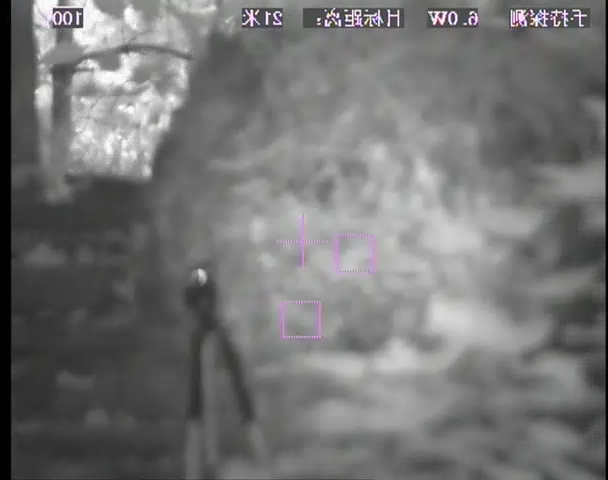my: (188, 265, 209, 285)
